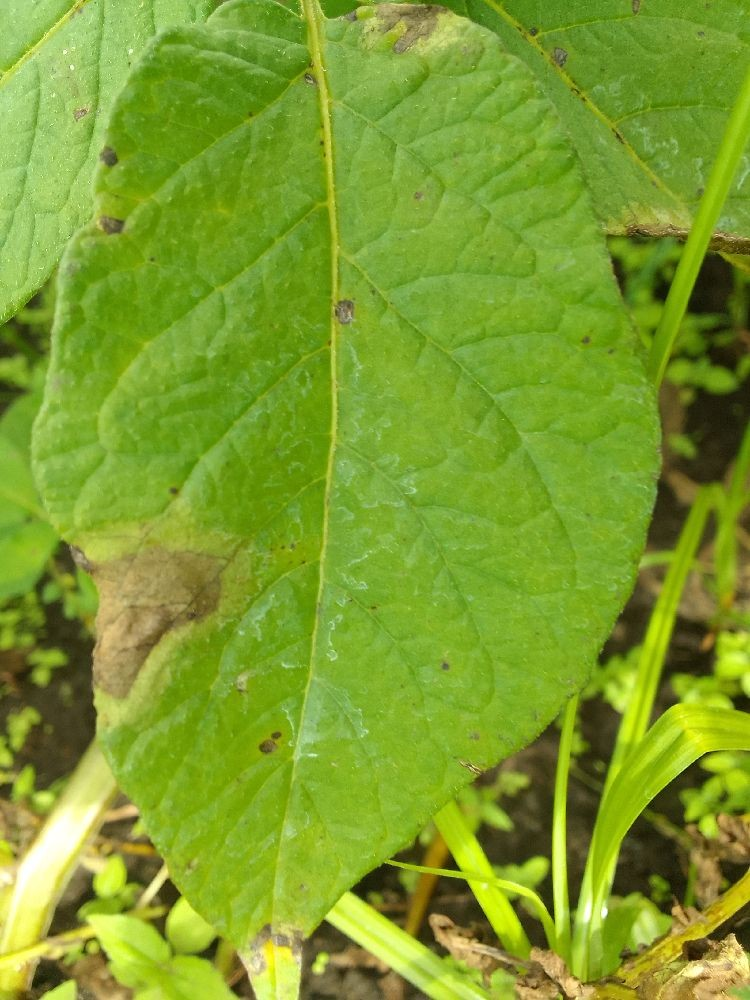late_blight: (305, 706, 750, 1000), (0, 527, 239, 883), (606, 194, 750, 591), (232, 899, 452, 1000)
